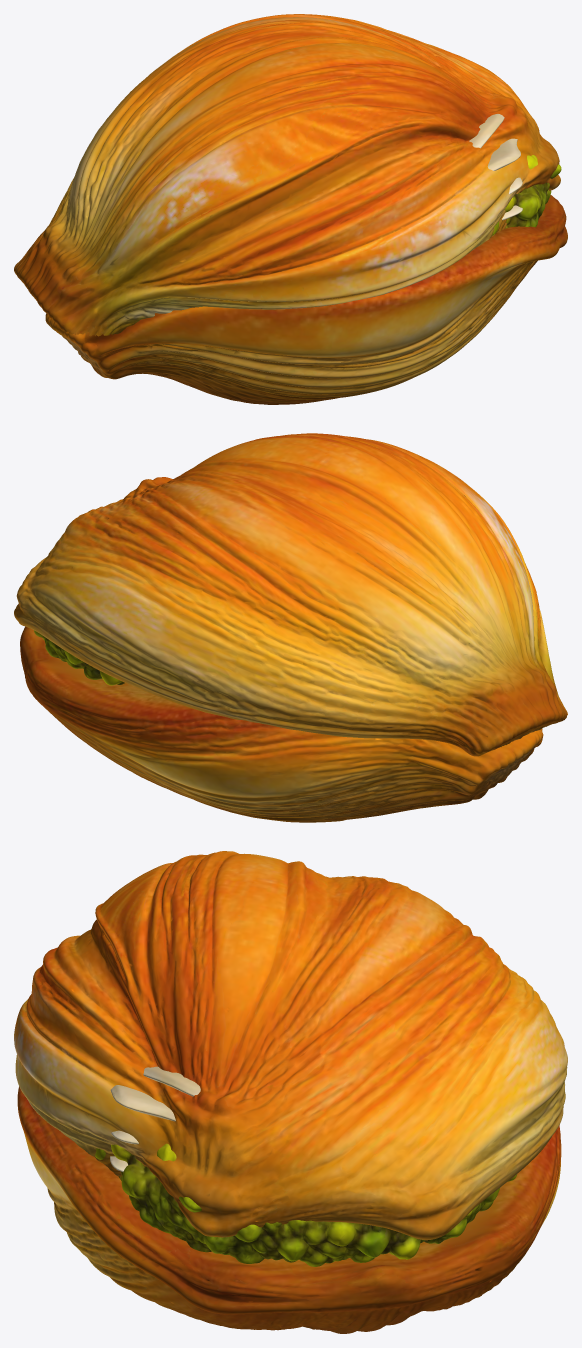
File: baklava.masa-v2.glb
3 views of the same model, one above another, from view 1: azimuth 30°, elevation 25°; view 2: azimuth 150°, elevation 25°; view 3: azimuth 270°, elevation 25° (orthographic). The views are drawn at different scales.
Parts seen in each view (by area): view 1: TopShell, BaseShell, Pistachio, LowerFilo; view 2: TopShell, BaseShell, Pistachio; view 3: TopShell, BaseShell, Pistachio, LowerFilo.
Part boxes in pixels (x1=…): TopShell: x1=14, y1=14, x2=560, y2=336; BaseShell: x1=45, y1=195, x2=567, y2=404; Pistachio: x1=492, y1=155, x2=561, y2=235; LowerFilo: x1=469, y1=114, x2=522, y2=220; TopShell: x1=14, y1=433, x2=567, y2=756; BaseShell: x1=20, y1=626, x2=543, y2=822; Pistachio: x1=34, y1=630, x2=124, y2=685; TopShell: x1=14, y1=851, x2=567, y2=1240; BaseShell: x1=17, y1=1086, x2=561, y2=1333; Pistachio: x1=95, y1=1143, x2=517, y2=1266; LowerFilo: x1=110, y1=1066, x2=200, y2=1171.
Size of the model in its own units: 0.7243 by 0.4401 by 0.5627.
Materials: 1 (1 with a texture image).
